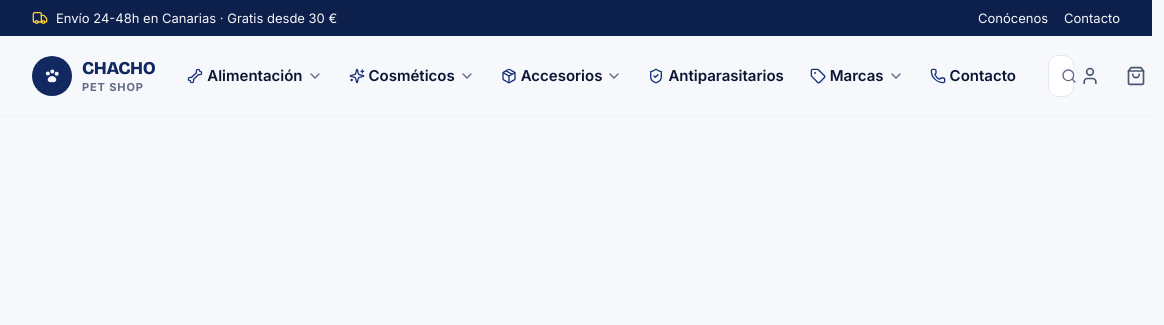
it: las subcategorías se abren a la derecha › Perros está colapsado y, al pasar por encima, abre sus categorías
Hover over the button "Alimentación" at (255, 76), box [175,56,335,96]
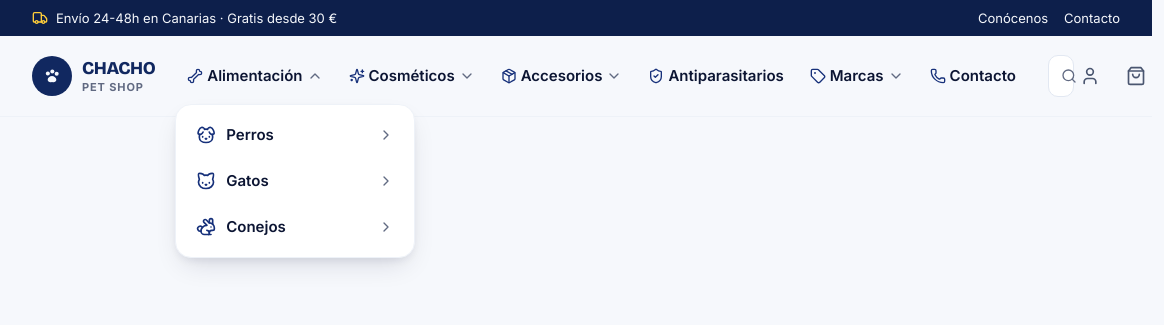
Expected: the link "Seca" is not shown
Hover over the list item "Perros" at (295, 135), box [196,125,394,145]
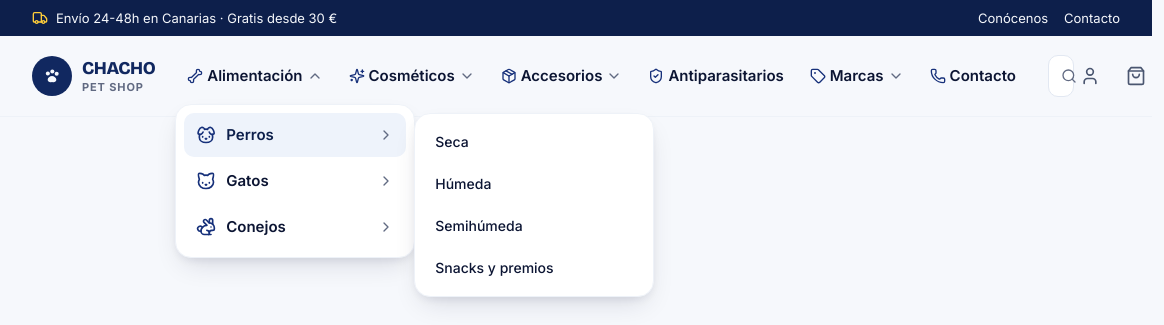
Expected: the link "Semihúmeda" is shown, [435,217,523,234]
Expected: the link "Snacks y premios" is shown, [435,259,554,276]
